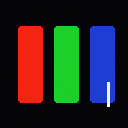4 line_v: (107, 82, 109, 106)
